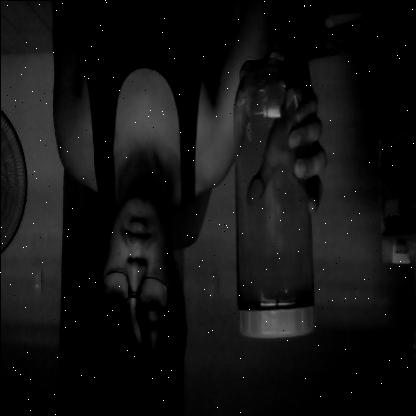Plastic Bottle: (229, 48, 318, 347)
